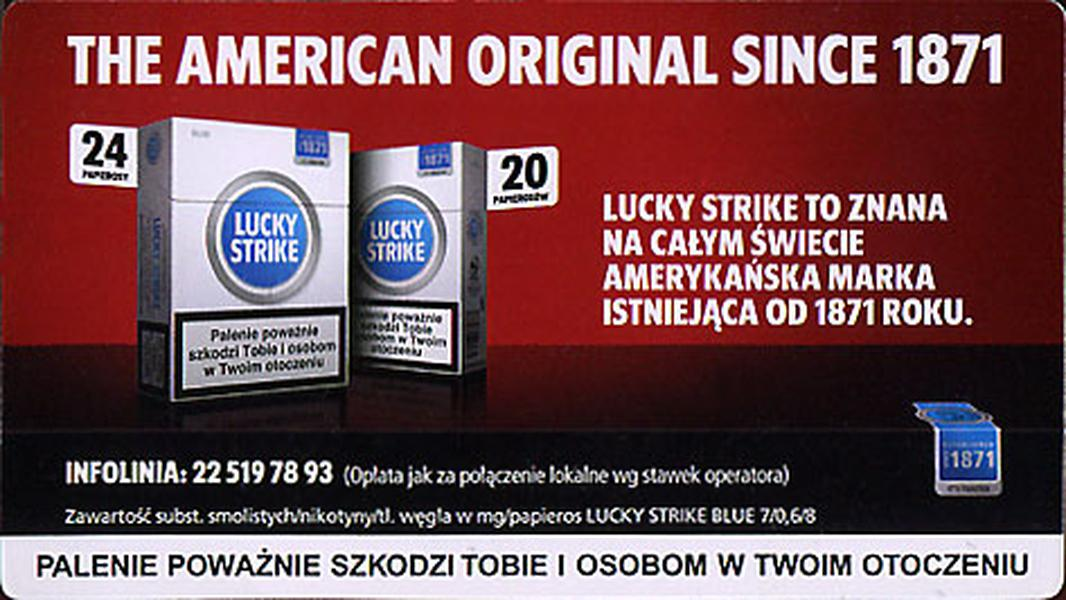lucky_strike_blue: (167, 133, 347, 383), (352, 146, 459, 363)
